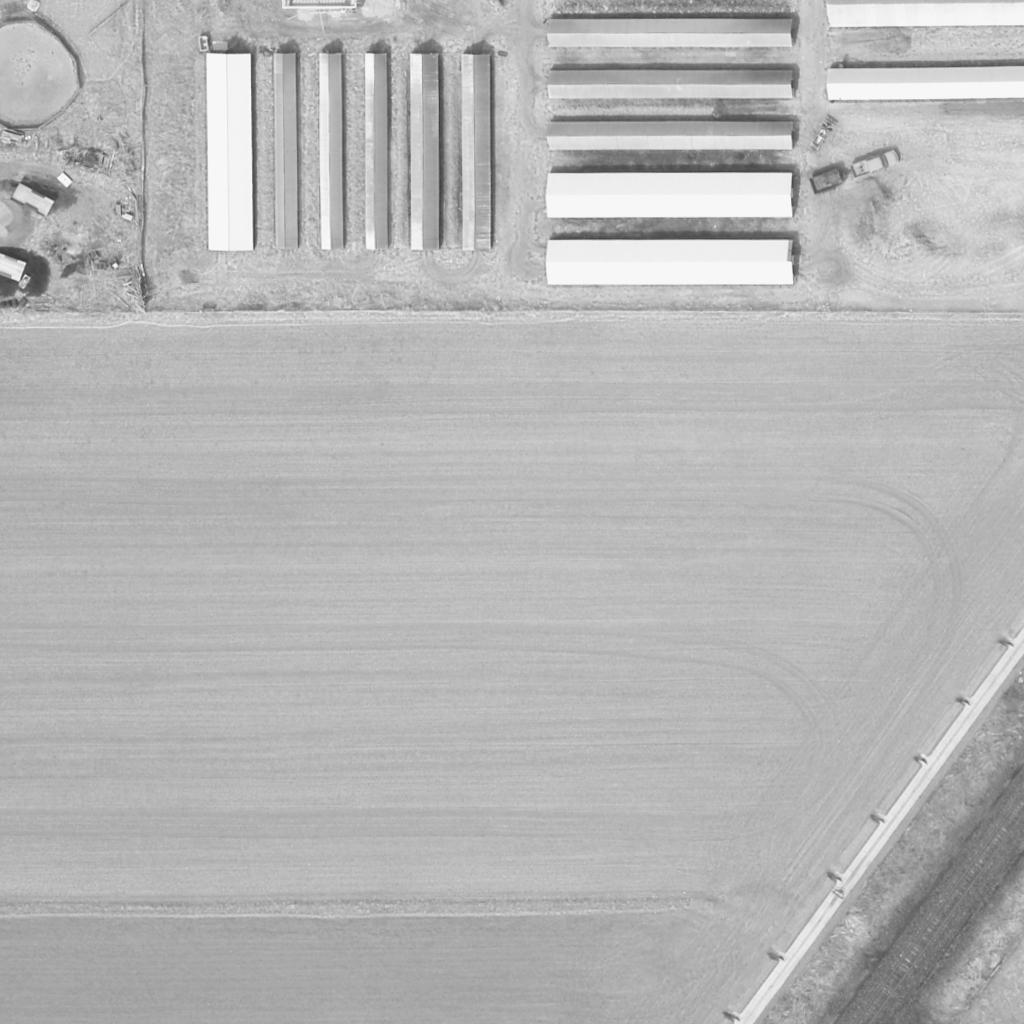vehicle: (849, 147, 901, 181)
